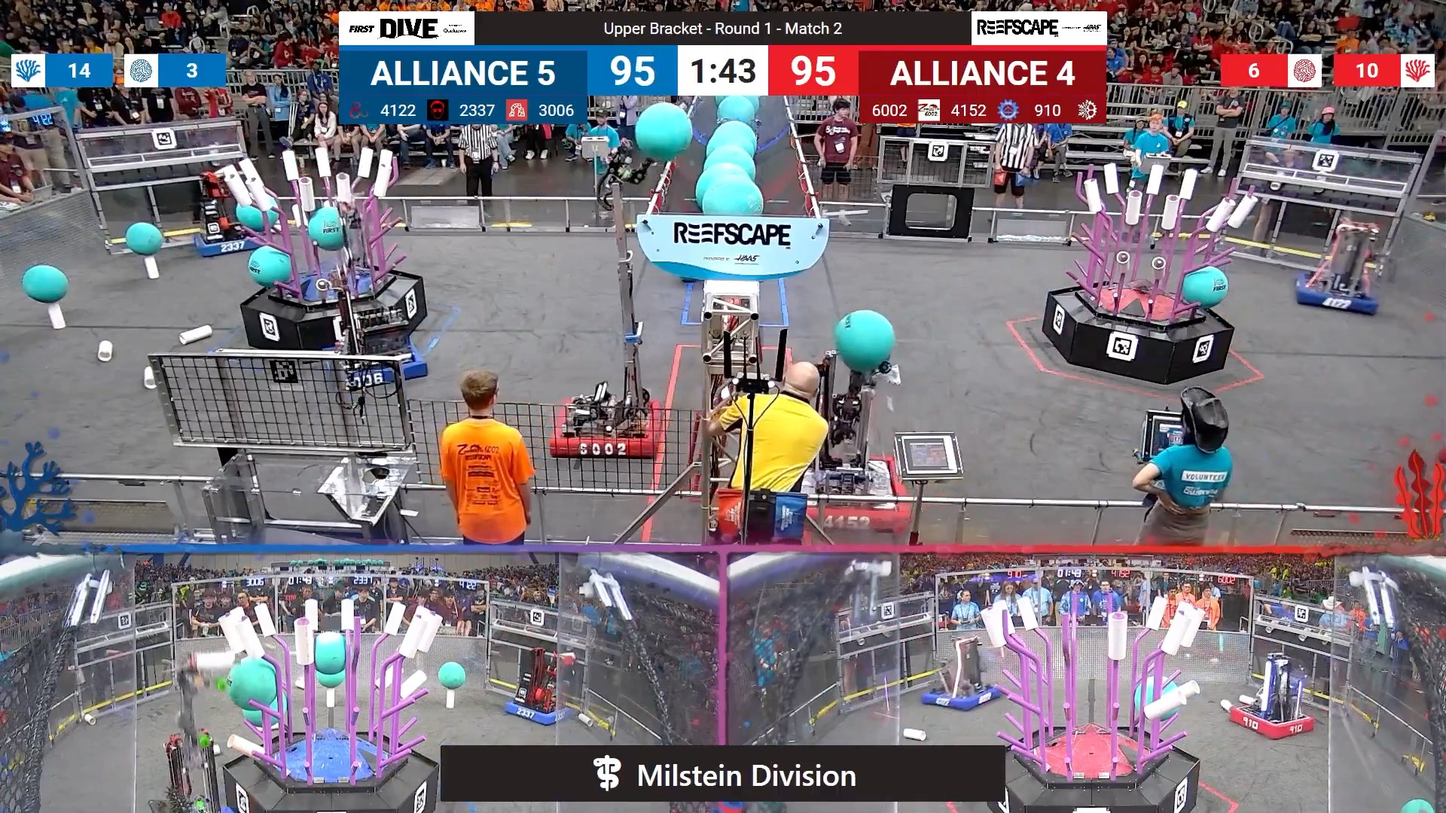bumpers: (794, 458, 917, 537), (546, 397, 669, 463), (317, 340, 431, 389), (1285, 270, 1387, 318), (1220, 700, 1320, 742), (186, 221, 278, 260), (919, 681, 1008, 716), (499, 695, 578, 729)
